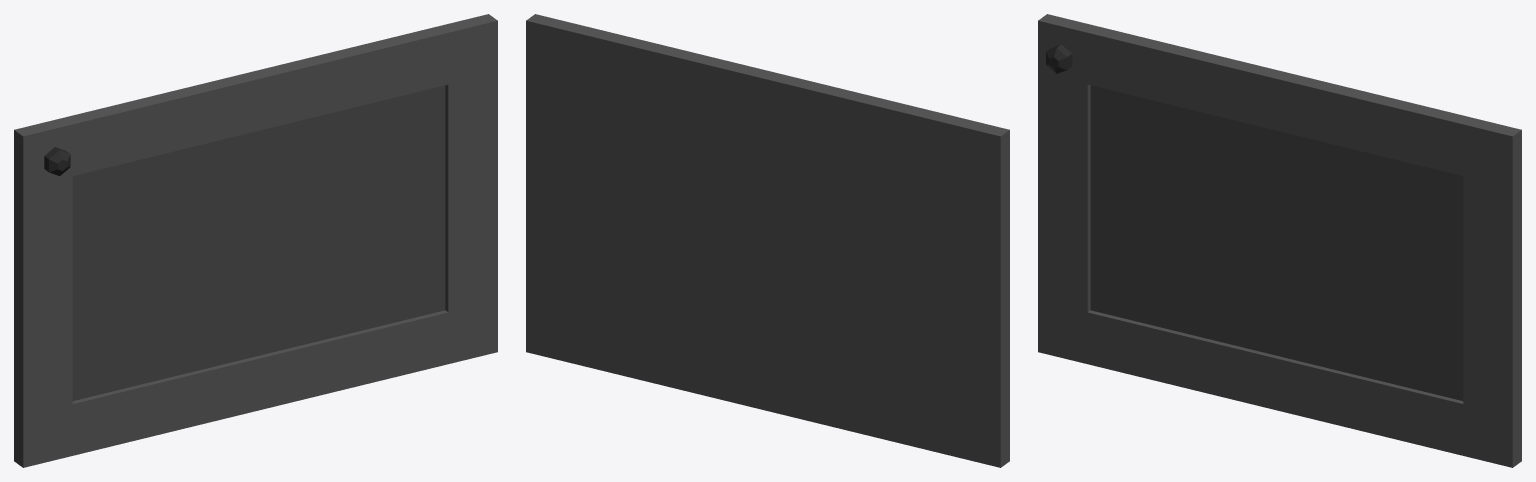
File: TV_Table3_C2_02.fbx
3 renders of one model, left to right at view 1: azimuth 30°, elevation 25°; view 2: azimuth 150°, elevation 25°; view 3: azimuth 330°, elevation 25°, orthographic.
Visible parts, largest first — view 1: TV_Table3_C2_02; view 2: TV_Table3_C2_02; view 3: TV_Table3_C2_02.
Part boxes in pixels (box(x1,y1,x2,y2)): TV_Table3_C2_02: box(14, 14, 497, 467); TV_Table3_C2_02: box(526, 14, 1009, 467); TV_Table3_C2_02: box(1038, 14, 1521, 467).
Bounding box in the file's own units: 59.97 × 40.02 × 4.58.
